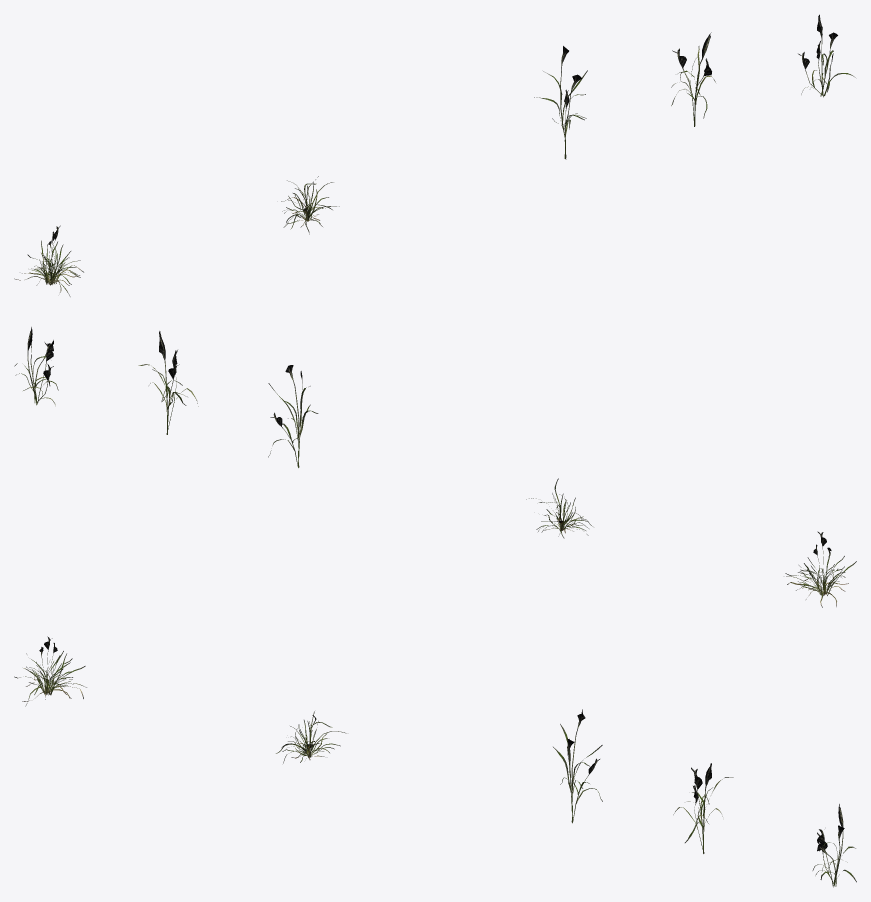
Rendered from grass_medium_01.glb.
3 renders of one model, top to bottom at view 1: azimuth 30°, elevation 25°; view 2: azimuth 150°, elevation 25°; view 3: azimuth 330°, elevation 25°, orthographic.
Visible parts, largest first — view 1: grass_medium_01_mid_b_LOD0, grass_medium_01_small_a_LOD0, grass_medium_01_tall_c_LOD0, grass_medium_01_tall_b_LOD0, grass_medium_01_tall_a_LOD0; view 2: grass_medium_01_mid_b_LOD0, grass_medium_01_tall_a_LOD0, grass_medium_01_tall_c_LOD0, grass_medium_01_tall_b_LOD0, grass_medium_01_small_a_LOD0; view 3: grass_medium_01_mid_b_LOD0, grass_medium_01_tall_a_LOD0, grass_medium_01_small_a_LOD0, grass_medium_01_tall_b_LOD0, grass_medium_01_tall_c_LOD0.
Part boxes in pixels (x1,y1,x2,y2): grass_medium_01_mid_b_LOD0: (14, 225, 83, 296); grass_medium_01_small_a_LOD0: (281, 176, 339, 234); grass_medium_01_tall_c_LOD0: (798, 14, 855, 97); grass_medium_01_tall_b_LOD0: (671, 32, 715, 126); grass_medium_01_tall_a_LOD0: (534, 46, 587, 159); grass_medium_01_mid_b_LOD0: (785, 531, 856, 607); grass_medium_01_tall_a_LOD0: (268, 365, 318, 467); grass_medium_01_tall_c_LOD0: (14, 327, 58, 405); grass_medium_01_tall_b_LOD0: (138, 331, 198, 434); grass_medium_01_small_a_LOD0: (526, 478, 592, 538); grass_medium_01_mid_b_LOD0: (14, 636, 86, 706); grass_medium_01_tall_a_LOD0: (553, 709, 602, 823); grass_medium_01_small_a_LOD0: (276, 711, 346, 763); grass_medium_01_tall_b_LOD0: (673, 763, 733, 853); grass_medium_01_tall_c_LOD0: (812, 804, 856, 887).
Bounding box in the file's own units: 2.56 × 0.3227 × 0.201.
1 material, 1 textured.
